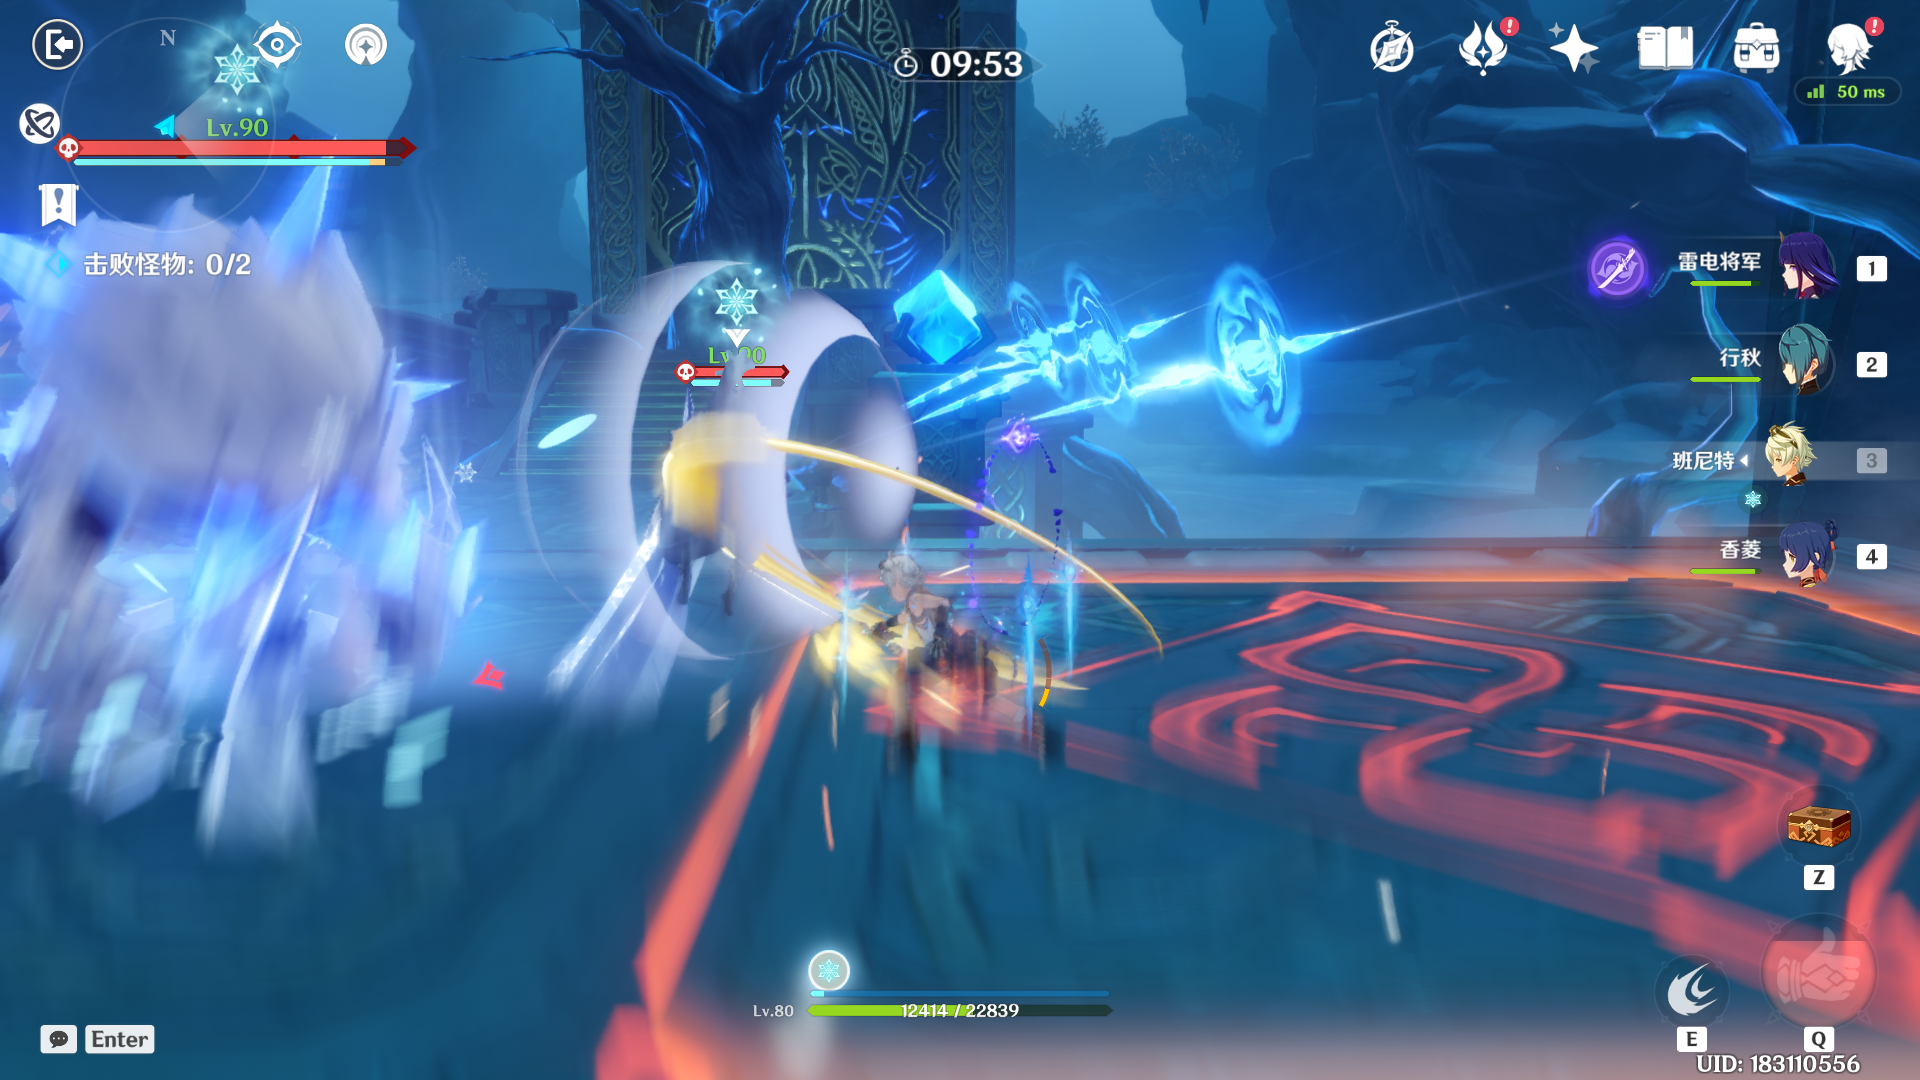character: (848, 538, 1093, 802)
